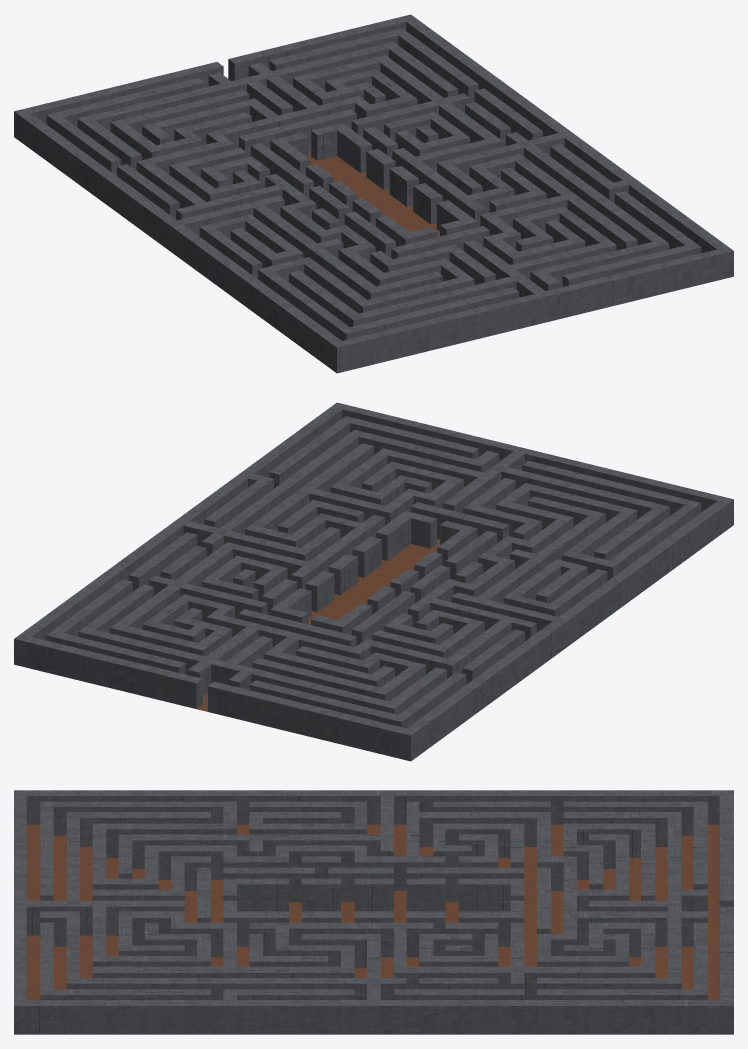
Rendered from maze_fix.glb.
The picture shows the model from 3 angles, top to bottom: view 1: azimuth 30°, elevation 25°; view 2: azimuth 150°, elevation 25°; view 3: azimuth 270°, elevation 25°; orthographic projection. The views are drawn at different scales.
Visible parts, largest first — view 1: Cube.001, Cube; view 2: Cube.001, Cube; view 3: Cube.001, Cube.
Part boxes in pixels (left/top/right/bottom): Cube.001: left=14, top=14, right=733, bottom=373; Cube: left=308, top=151, right=439, bottom=236; Cube.001: left=14, top=402, right=733, bottom=761; Cube: left=197, top=539, right=439, bottom=711; Cube.001: left=14, top=790, right=733, bottom=1034; Cube: left=26, top=824, right=719, bottom=999.
Bounding box in the file's own units: 61.06 × 3.79 × 86.04.
Materials: 2 (2 with a texture image).
